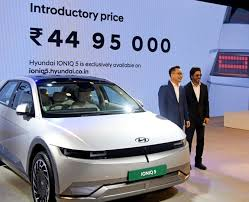Honda Ioniq: (1, 75, 192, 202)
